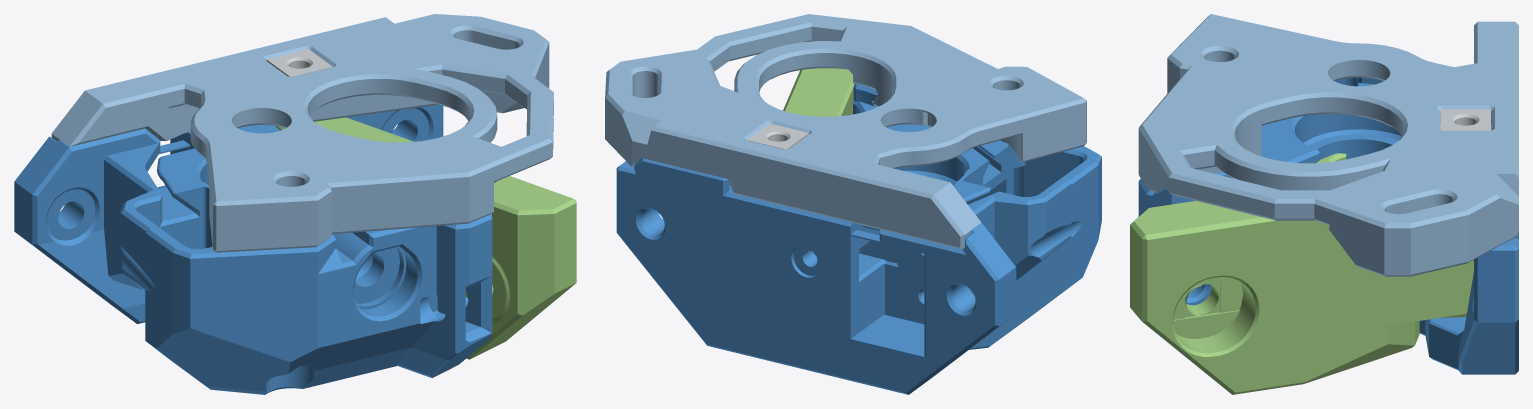
Rendered from A4T - WW-BMG - Sensor.gltf.
3 renders of one model, left to right at view 1: azimuth 30°, elevation 25°; view 2: azimuth 150°, elevation 25°; view 3: azimuth 270°, elevation 25°, orthographic. The views are drawn at different scales.
Parts seen in each view (by area): view 1: A4T - WWBMG - Main_Body [Sherpa-Mini spacing] Dual Sensor, A4T - WWBMG - Motor_Plate - Dual Sensor, A4T - WWBMG - Beefy_Tension_Arm - Smooth_Idler, Square thin nut grade B M3x0.5; view 2: A4T - WWBMG - Main_Body [Sherpa-Mini spacing] Dual Sensor, A4T - WWBMG - Motor_Plate - Dual Sensor, A4T - WWBMG - Beefy_Tension_Arm - Smooth_Idler, Square thin nut grade B M3x0.5; view 3: A4T - WWBMG - Motor_Plate - Dual Sensor, A4T - WWBMG - Beefy_Tension_Arm - Smooth_Idler, A4T - WWBMG - Main_Body [Sherpa-Mini spacing] Dual Sensor, Square thin nut grade B M3x0.5.
Part boxes in pixels (<box>): A4T - WWBMG - Main_Body [Sherpa-Mini spacing] Dual Sensor: <box>14,104,492,394</box>; A4T - WWBMG - Motor_Plate - Dual Sensor: <box>51,14,553,252</box>; A4T - WWBMG - Beefy_Tension_Arm - Smooth_Idler: <box>275,117,576,359</box>; Square thin nut grade B M3x0.5: <box>266,49,332,76</box>; A4T - WWBMG - Main_Body [Sherpa-Mini spacing] Dual Sensor: <box>616,84,1101,394</box>; A4T - WWBMG - Motor_Plate - Dual Sensor: <box>605,14,1086,249</box>; A4T - WWBMG - Beefy_Tension_Arm - Smooth_Idler: <box>783,68,854,116</box>; Square thin nut grade B M3x0.5: <box>747,123,808,149</box>; A4T - WWBMG - Motor_Plate - Dual Sensor: <box>1138,14,1518,276</box>; A4T - WWBMG - Beefy_Tension_Arm - Smooth_Idler: <box>1130,153,1473,394</box>; A4T - WWBMG - Main_Body [Sherpa-Mini spacing] Dual Sensor: <box>1138,77,1518,374</box>; Square thin nut grade B M3x0.5: <box>1440,109,1490,130</box>.
Bounding box in the file's own units: 0.0615 × 0.0276 × 0.0423.
